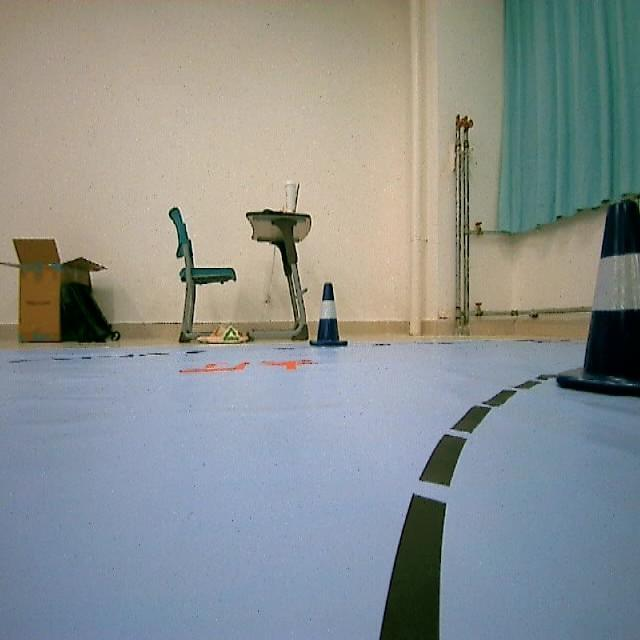obstacle: (311, 279, 350, 352)
